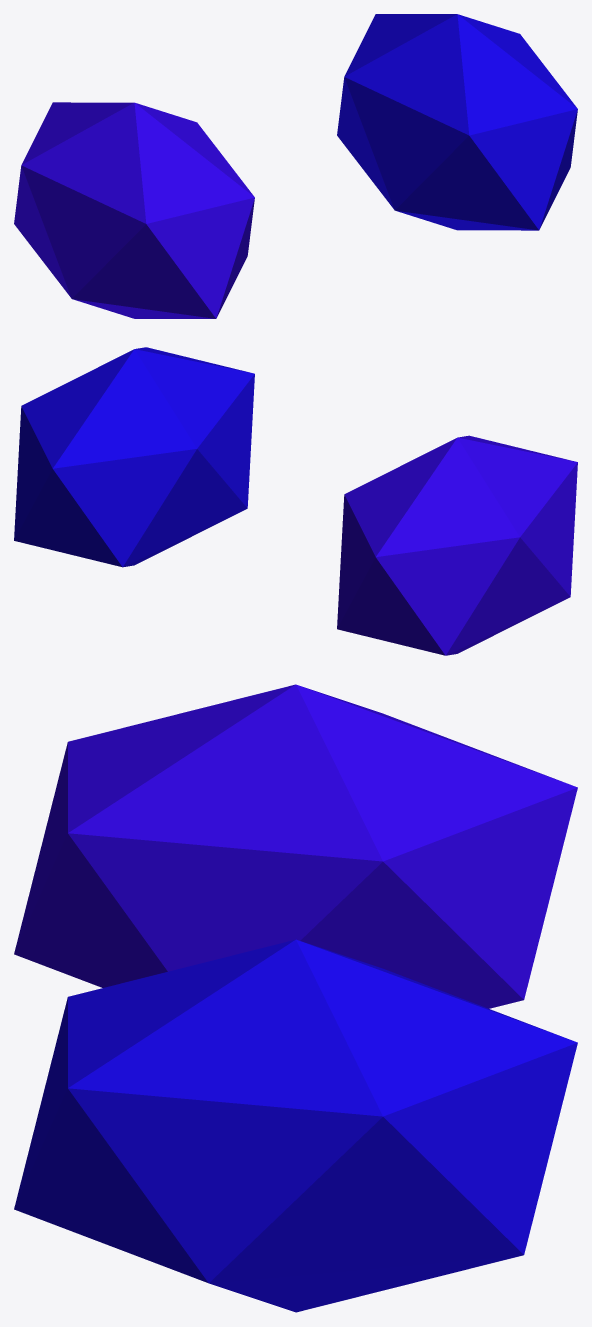
Rendered from normalEnemyLeg.fbx.
3 renders of one model, top to bottom at view 1: azimuth 30°, elevation 25°; view 2: azimuth 150°, elevation 25°; view 3: azimuth 270°, elevation 25°, orthographic. The views are drawn at different scales.
Visible parts, largest first — view 1: Icosphere.002, Icosphere.001; view 2: Icosphere.002, Icosphere.001; view 3: Icosphere.002, Icosphere.001.
Boxes of the visible parts, x1,y1,x2,y2 form: Icosphere.002: (337, 14, 577, 230); Icosphere.001: (14, 102, 254, 318); Icosphere.002: (14, 347, 254, 567); Icosphere.001: (337, 435, 577, 655); Icosphere.002: (14, 939, 577, 1312); Icosphere.001: (14, 684, 577, 1008).
Size of the model in its own units: 3.15 by 1.36 by 1.79.
